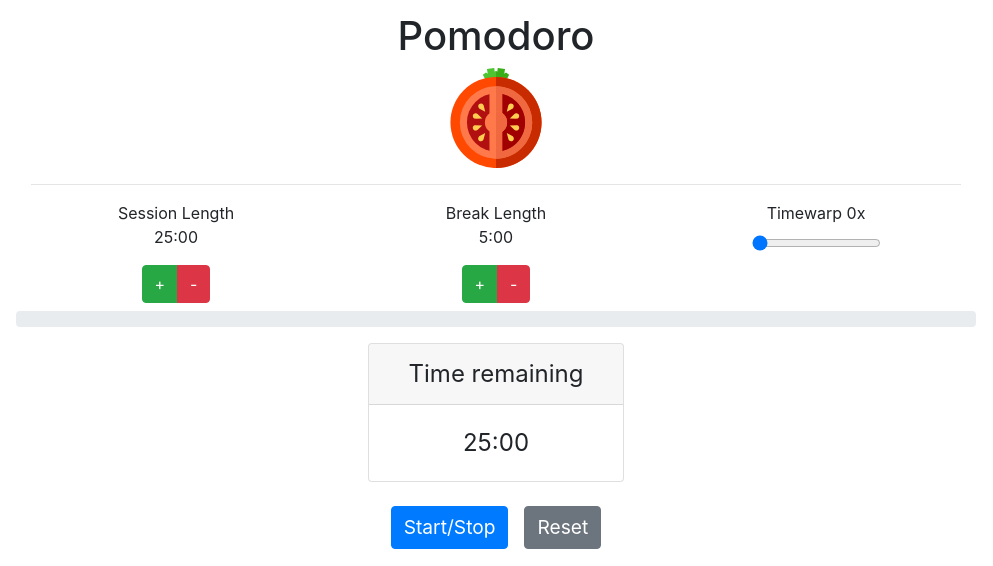
Test case: Pomodoro app › User Story #11: When I click the element with the id of reset, any running timer should be stopped, the value within id="break-length" should return to 5, the v
Click the button with test id "break-decrement": (514, 284) top-left (497, 265), bottom-right (530, 303)
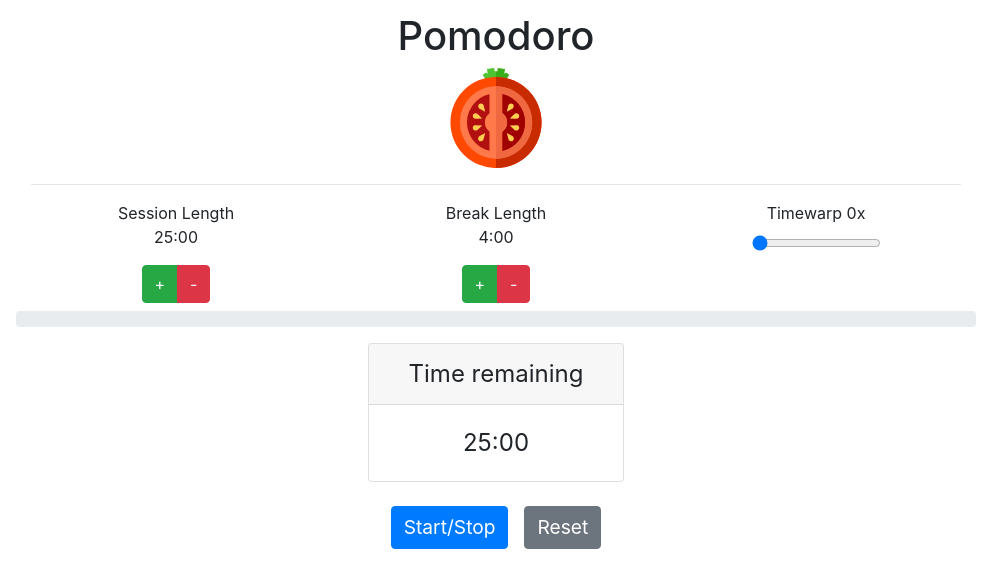
Click the button with test id "session-increment": (160, 284) top-left (142, 265), bottom-right (178, 303)
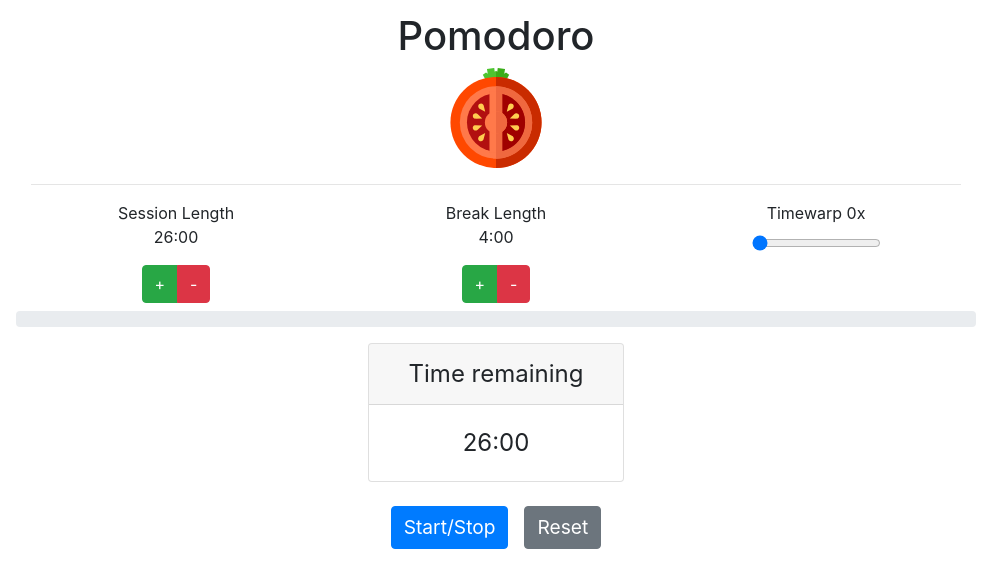
Click the button with test id "start_stop": (450, 527) top-left (391, 506), bottom-right (508, 549)
Wait 2000 ms
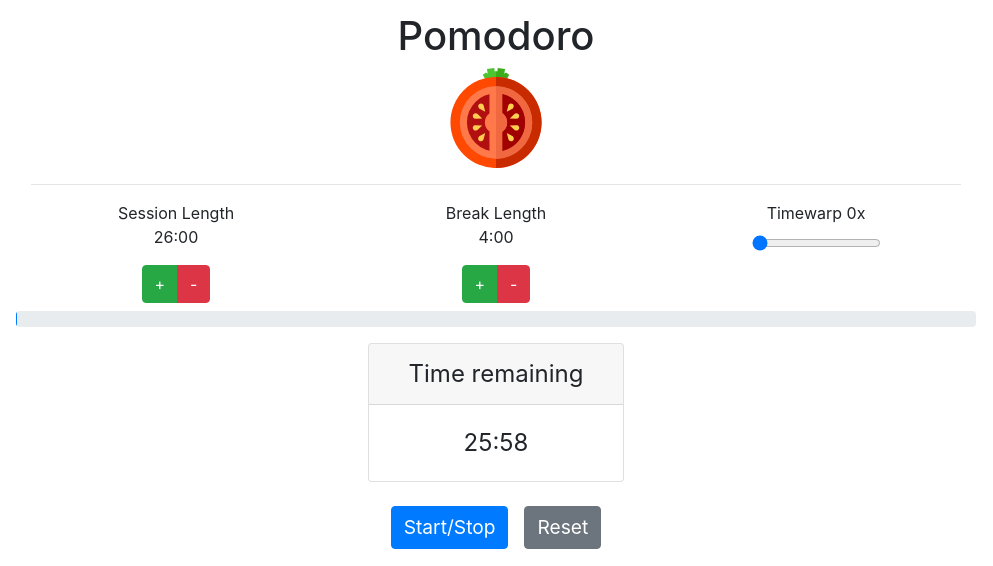
Click the button with test id "reset": (563, 527) top-left (524, 506), bottom-right (601, 549)
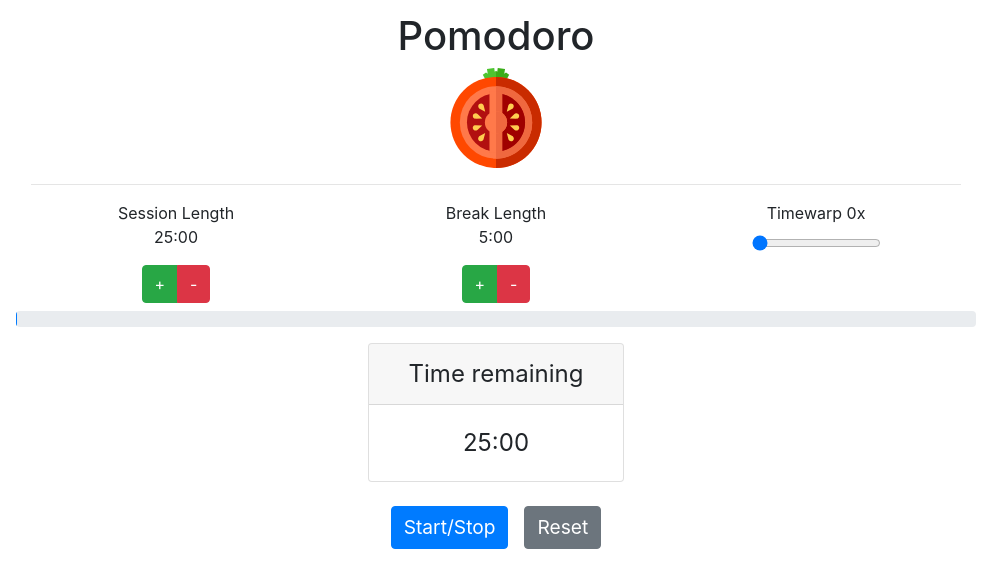
Check: the text with test id "break-length" reads "5:00", box top-left (479, 227), bottom-right (513, 247)
Check: the text with test id "session-length" reads "25:00", box top-left (154, 227), bottom-right (198, 247)
Check: the text with test id "time-left" reads "25:00", box top-left (463, 428), bottom-right (529, 457)
